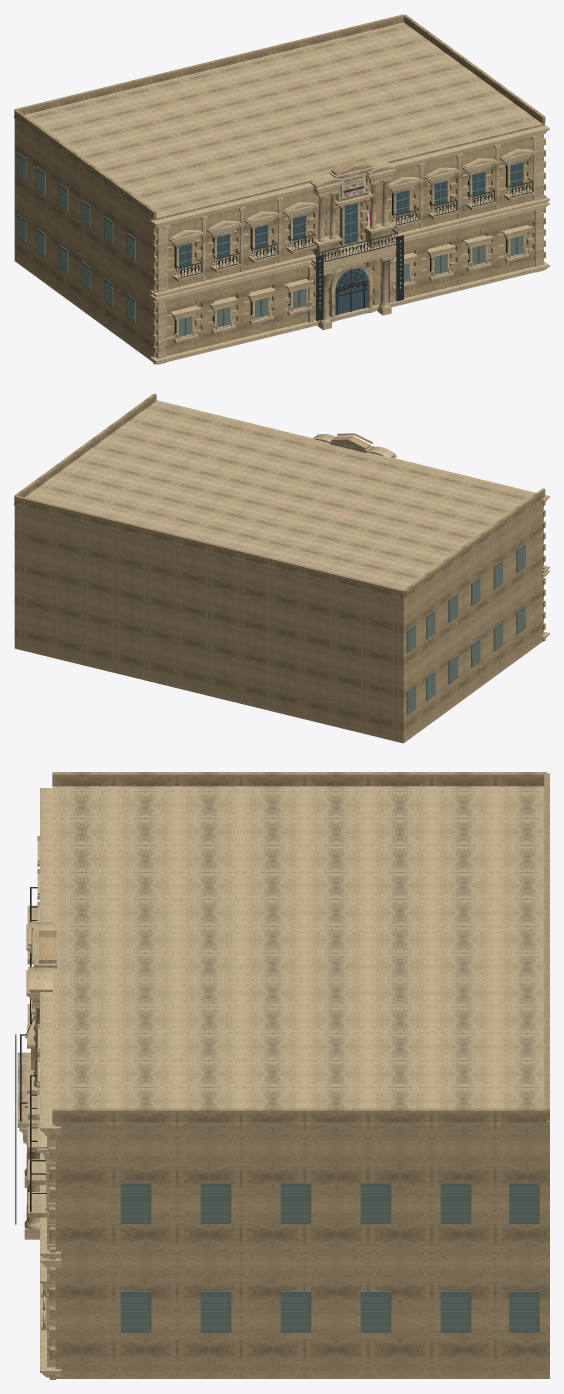
File: museum-DvOzrl2h.glb
3 views of the same model, one above another, from view 1: azimuth 30°, elevation 25°; view 2: azimuth 150°, elevation 25°; view 3: azimuth 270°, elevation 25° (orthographic). The views are drawn at different scales.
Visible parts, largest first — view 1: Museum | Carved limestone, Museum | Limestone | photographic grain, Museum | Weathered grey green shutters, Museum | Black wrought iron, Museum | Dark reflective glazing, Photo-referenced heraldic relief face; view 2: Museum | Limestone | photographic grain, Museum | Carved limestone, Museum | Weathered grey green shutters; view 3: Museum | Carved limestone, Museum | Limestone | photographic grain, Museum | Weathered grey green shutters, Museum | Black wrought iron.
Part boxes in pixels (left/top/right/bottom): Museum | Carved limestone: left=14, top=22, right=549, bottom=364; Museum | Limestone | photographic grain: left=14, top=14, right=545, bottom=364; Museum | Weathered grey green shutters: left=17, top=152, right=523, bottom=336; Museum | Black wrought iron: left=174, top=178, right=532, bottom=320; Museum | Dark reflective glazing: left=179, top=163, right=521, bottom=315; Photo-referenced heraldic relief face: left=340, top=176, right=367, bottom=200; Museum | Limestone | photographic grain: left=14, top=393, right=545, bottom=743; Museum | Carved limestone: left=14, top=400, right=549, bottom=640; Museum | Weathered grey green shutters: left=406, top=544, right=525, bottom=714; Museum | Carved limestone: left=17, top=786, right=549, bottom=1377; Museum | Limestone | photographic grain: left=31, top=772, right=549, bottom=1379; Museum | Weathered grey green shutters: left=120, top=1182, right=539, bottom=1332; Museum | Black wrought iron: left=15, top=887, right=46, bottom=1224.
Size of the model in its own units: 34.22 by 12.95 by 22.78.
Materials: 9 (3 with a texture image).
